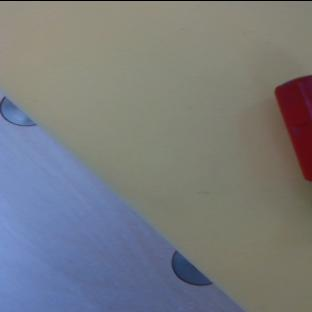part_2_good: (274, 74, 311, 180)
